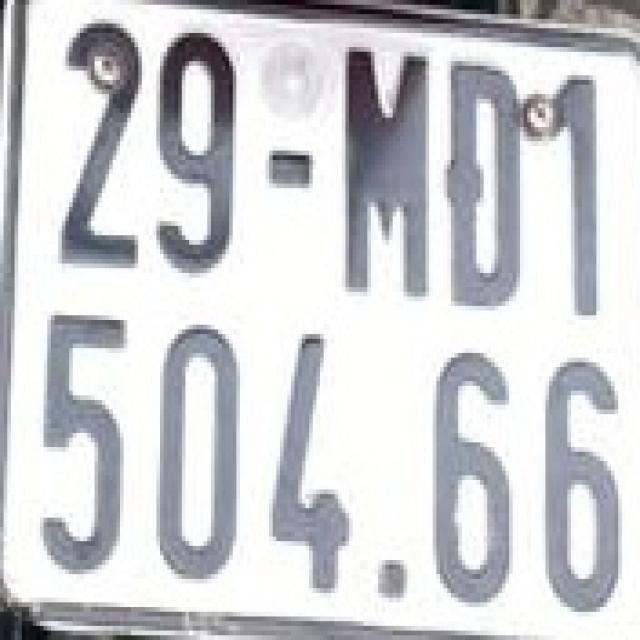0: (153, 316, 247, 584)
1: (545, 66, 611, 320)
2: (54, 14, 146, 268)
4: (266, 325, 356, 593)
5: (36, 306, 131, 574)
6: (426, 344, 516, 607), (538, 348, 626, 612)
9: (152, 24, 244, 278)
D: (442, 40, 529, 318)
M: (334, 38, 436, 296)
